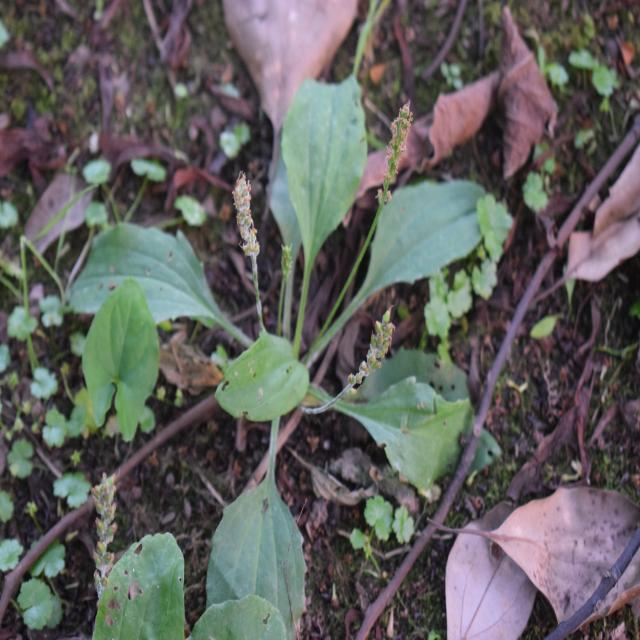plantain: (95, 108, 479, 533)
